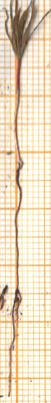flower: (0, 0, 51, 58)
root: (4, 154, 28, 400)
stem: (11, 57, 26, 154)
